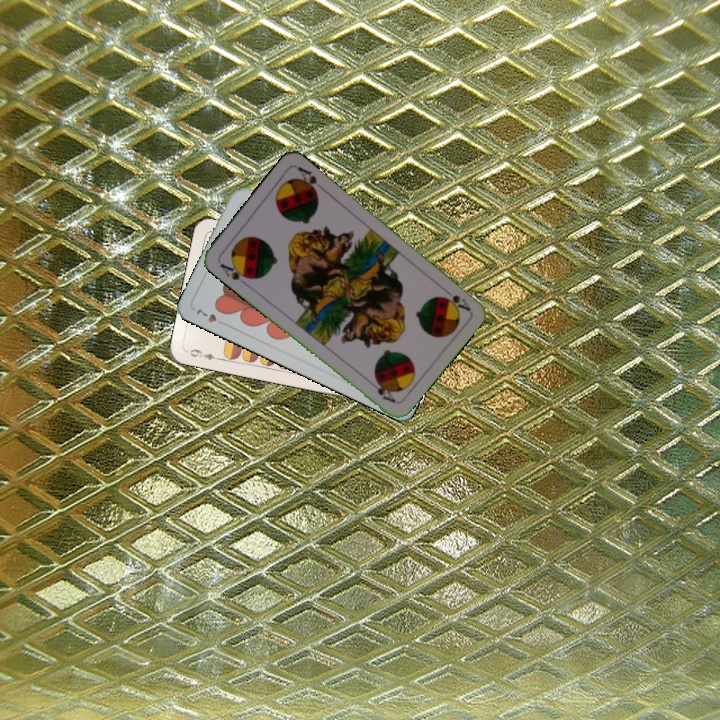E9: (183, 345, 223, 363)
H7: (192, 305, 219, 325)
SA: (215, 258, 254, 288), (438, 283, 473, 314)
